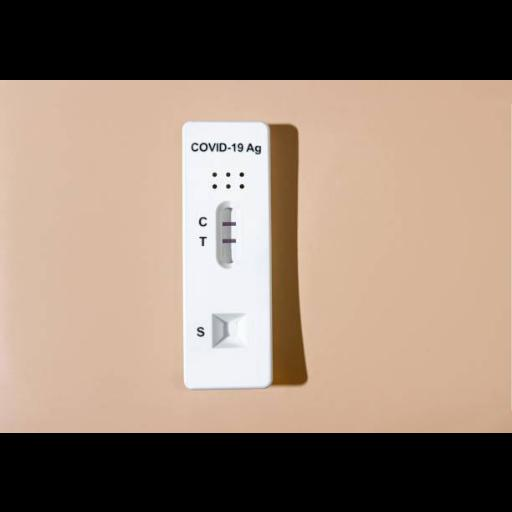Pos: (184, 120, 270, 386)
